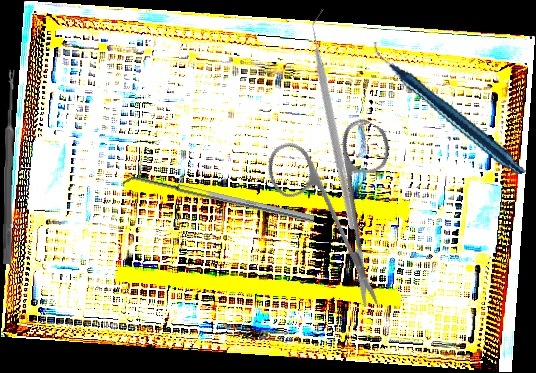Chopper: (227, 7, 449, 232)
Handpiece: (373, 14, 526, 201)
Iris Scissors: (228, 88, 454, 312)
Spatula Surgical: (122, 171, 315, 231)
Surgical Spoon: (2, 69, 17, 265)
